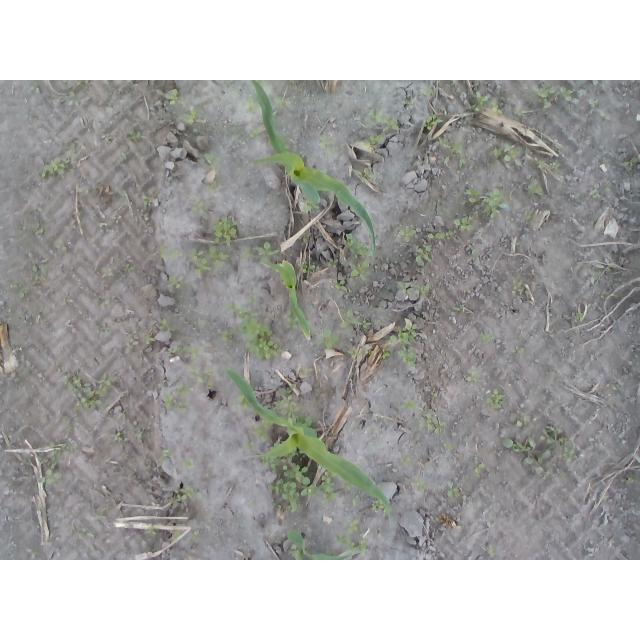Maize: (227, 368, 395, 515), (249, 80, 380, 256), (266, 257, 315, 340), (286, 529, 363, 560)
Weeds: (503, 425, 578, 479), (222, 301, 284, 359), (262, 454, 317, 512), (62, 367, 120, 416), (41, 440, 81, 493), (382, 321, 418, 369), (463, 185, 509, 219), (343, 232, 373, 284), (190, 243, 233, 273), (158, 381, 192, 415), (534, 85, 578, 111), (438, 135, 466, 169), (272, 383, 296, 419), (213, 216, 239, 249), (186, 366, 217, 392), (470, 89, 503, 113), (338, 308, 370, 332), (318, 469, 339, 505), (180, 109, 209, 135), (415, 413, 449, 435), (489, 142, 524, 163), (227, 124, 265, 143), (311, 325, 341, 349), (365, 108, 399, 129), (479, 383, 505, 410), (41, 158, 72, 180), (319, 134, 341, 162), (397, 279, 431, 297), (168, 344, 205, 360), (253, 240, 276, 264), (168, 485, 195, 504), (164, 88, 184, 113), (30, 263, 50, 286), (533, 160, 561, 176), (203, 151, 226, 170), (255, 417, 273, 441), (190, 195, 209, 217), (351, 167, 374, 185), (159, 241, 179, 260), (333, 532, 355, 549), (115, 264, 137, 281), (453, 215, 475, 232), (61, 414, 79, 434), (469, 460, 487, 480), (68, 80, 89, 97), (71, 526, 98, 539), (424, 114, 444, 131), (240, 95, 258, 113), (399, 225, 418, 242), (415, 246, 434, 263), (158, 318, 178, 334), (364, 134, 385, 149), (425, 231, 456, 241), (272, 95, 289, 112), (158, 447, 174, 465), (439, 440, 457, 456), (464, 367, 480, 385), (411, 478, 430, 493), (368, 499, 388, 513), (286, 308, 299, 329), (447, 479, 462, 497), (165, 276, 184, 290), (31, 221, 50, 235), (127, 128, 145, 142), (345, 518, 360, 534), (304, 199, 321, 213), (239, 395, 254, 410), (514, 415, 530, 429), (63, 94, 81, 106), (51, 239, 69, 251), (187, 530, 201, 545), (399, 400, 418, 411), (480, 331, 496, 344), (510, 340, 526, 353), (334, 279, 350, 292), (20, 286, 32, 303), (622, 473, 640, 484), (528, 183, 545, 194), (399, 453, 414, 465), (7, 279, 23, 290), (112, 431, 129, 441), (112, 208, 122, 225), (118, 190, 128, 207), (465, 244, 478, 257), (301, 261, 315, 273), (347, 349, 362, 360), (487, 543, 498, 558), (31, 80, 41, 96), (207, 180, 219, 193), (243, 439, 257, 450), (623, 156, 640, 165), (606, 382, 623, 391), (100, 132, 112, 144), (297, 232, 308, 245), (128, 336, 136, 353), (30, 544, 38, 561), (183, 457, 194, 469), (421, 85, 433, 96), (327, 257, 338, 268), (513, 279, 524, 290), (143, 193, 153, 205), (146, 527, 158, 537), (352, 494, 361, 506), (144, 336, 156, 345), (343, 482, 354, 491), (605, 264, 617, 272), (135, 432, 145, 441), (576, 311, 585, 321), (173, 529, 182, 539), (360, 539, 368, 550), (287, 80, 298, 88), (248, 296, 257, 305), (601, 292, 610, 301), (592, 191, 601, 200), (120, 152, 129, 160), (103, 271, 113, 277), (456, 304, 464, 311), (600, 159, 609, 165), (365, 349, 372, 355)
